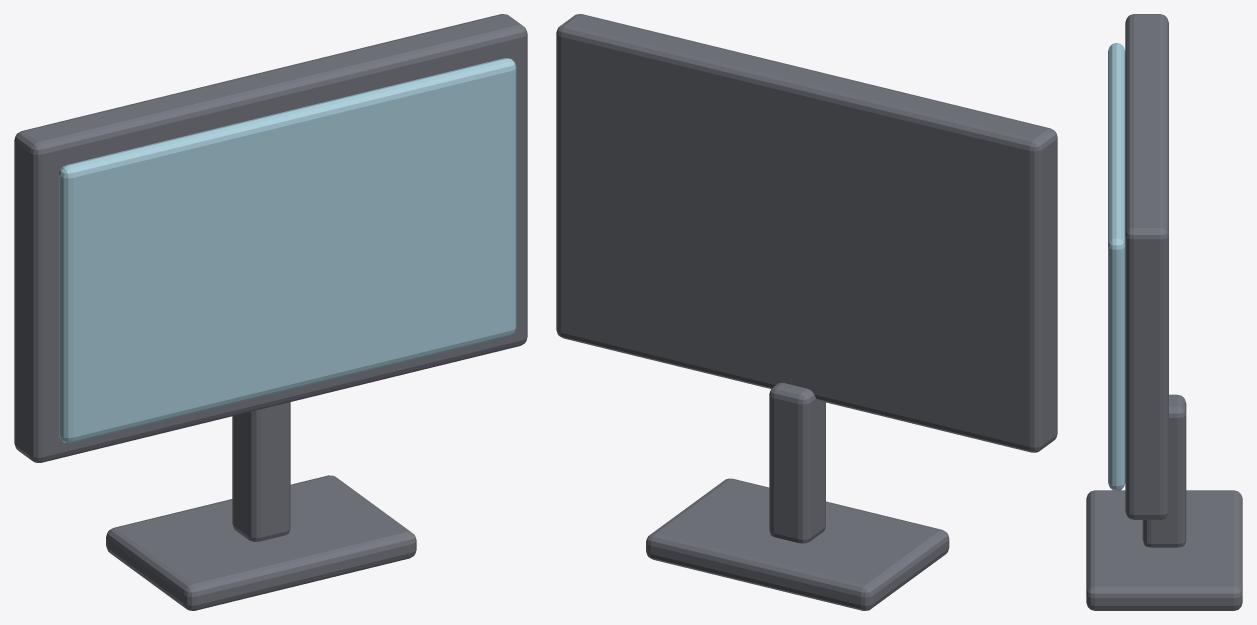
The model's file is Monitor.fbx.
3 renders of one model, left to right at view 1: azimuth 30°, elevation 25°; view 2: azimuth 150°, elevation 25°; view 3: azimuth 270°, elevation 25°, orthographic. The views are drawn at different scales.
Visible parts, largest first — view 1: Monitor; view 2: Monitor; view 3: Monitor.
Part boxes in pixels (x1=…): Monitor: x1=14, y1=14, x2=527, y2=610; Monitor: x1=556, y1=14, x2=1057, y2=610; Monitor: x1=1086, y1=14, x2=1242, y2=610.
Bounding box in the file's own units: 0.6 × 0.56 × 0.18.
